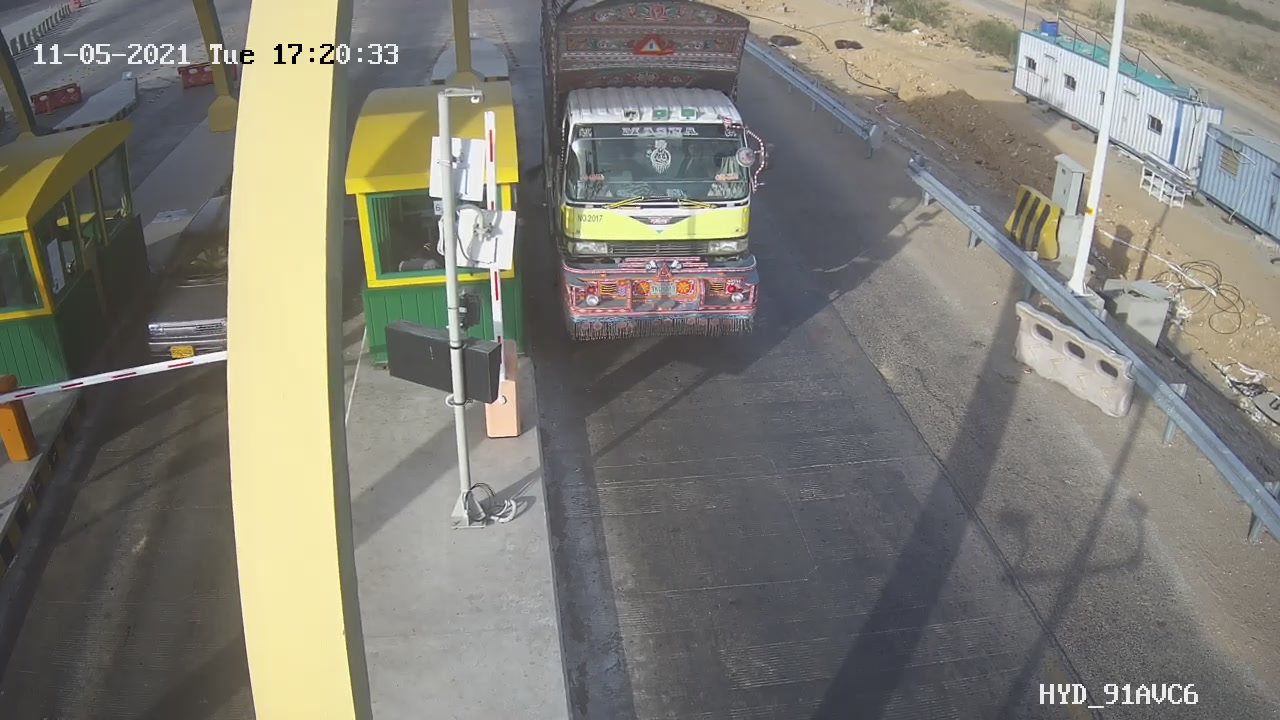F6: (518, 1, 798, 369)
